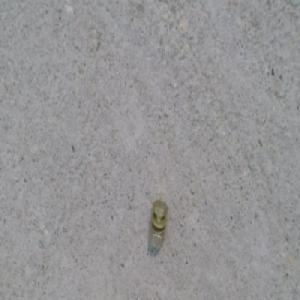BoltNutSet: (150, 199, 168, 246)
